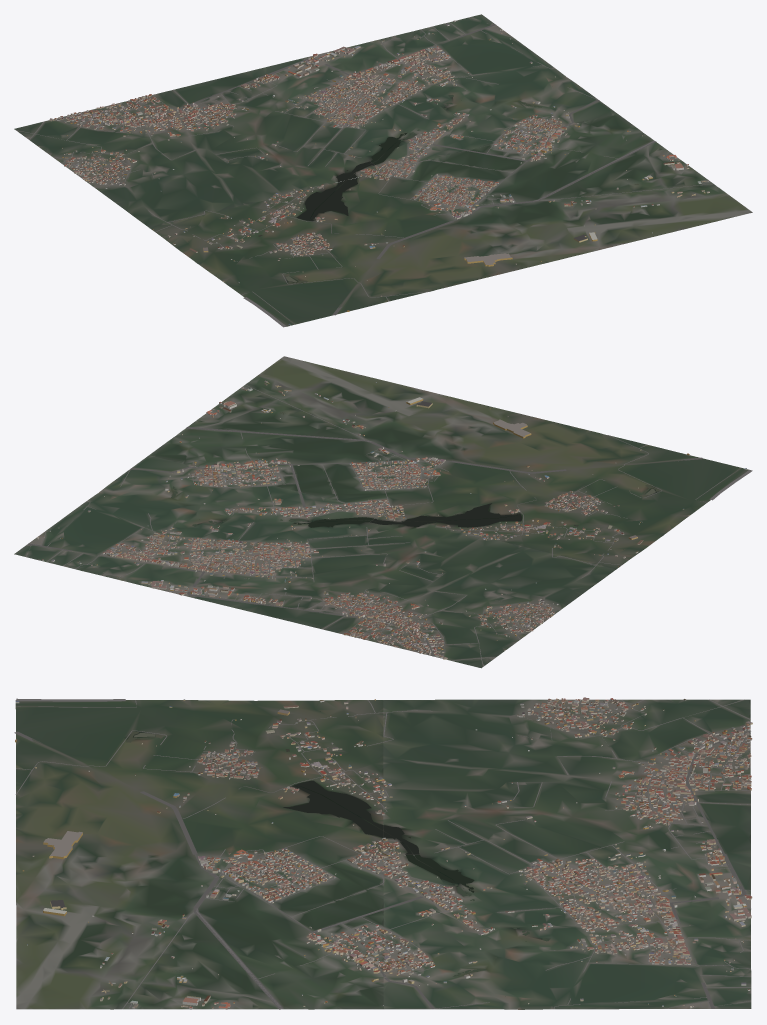
3 views of the same model, one above another, from view 1: azimuth 30°, elevation 25°; view 2: azimuth 150°, elevation 25°; view 3: azimuth 270°, elevation 25° (orthographic). The views are drawn at different scales.
Visible parts, largest first — view 1: ground, buildings, roads, water; view 2: ground, buildings, roads, water; view 3: ground, buildings, roads, water.
Part boxes in pixels (box(x1,y1,x2,y2)): ground: box(14, 14, 752, 326); buildings: box(38, 20, 709, 325); roads: box(16, 17, 713, 327); water: box(188, 95, 638, 283); ground: box(14, 356, 748, 668); buildings: box(37, 380, 746, 659); roads: box(26, 384, 752, 666); water: box(171, 402, 659, 549); ground: box(15, 699, 751, 1009); buildings: box(15, 697, 752, 1009); roads: box(14, 698, 751, 1009); water: box(126, 711, 548, 996).
Size of the model in its own units: 2810 by 26.5 by 2819.
